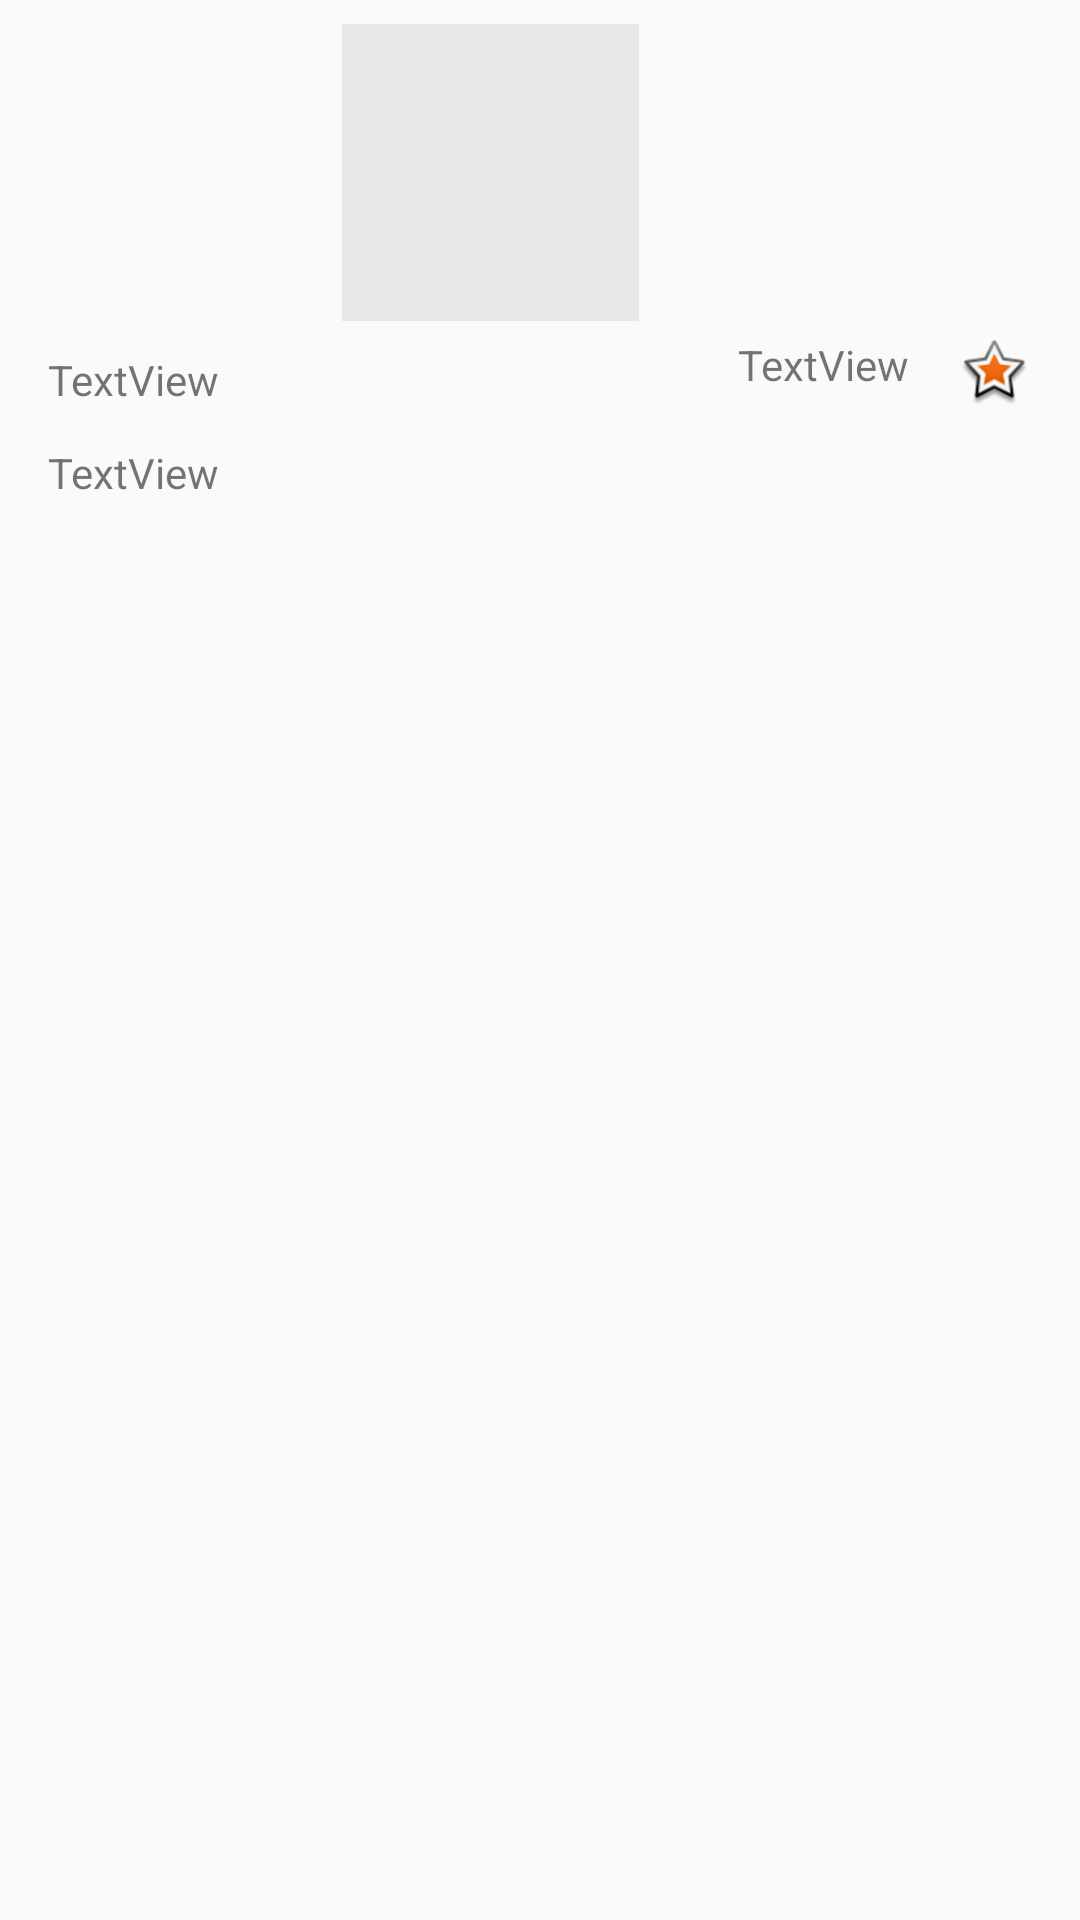

Where icons sit on this 1080x1920 app screen, as Rect(x1, y1, x2, y2):
star on: Rect(964, 340, 1025, 402)
